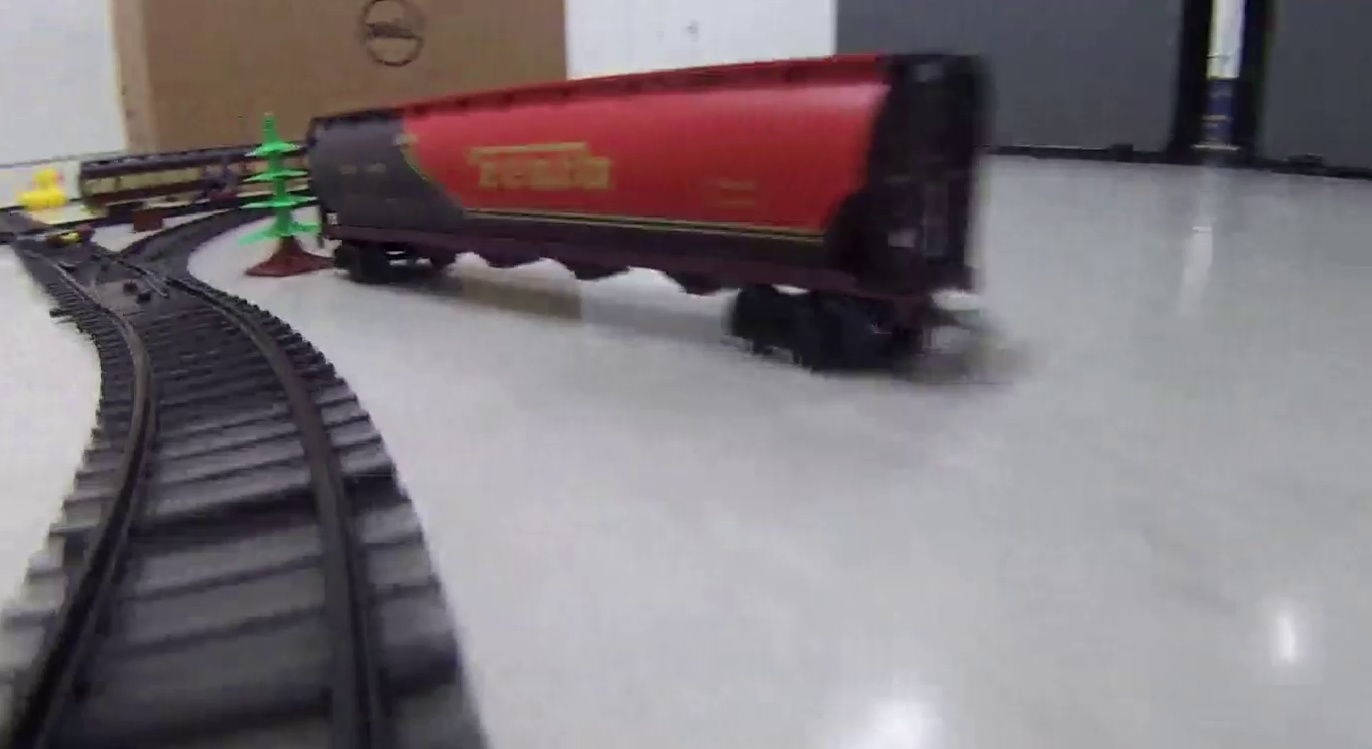tree: (241, 113, 311, 275)
